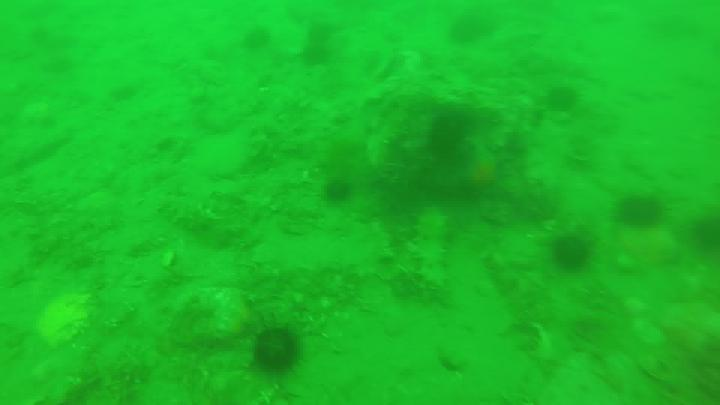echinus: (248, 325, 304, 374), (431, 108, 467, 158), (620, 196, 670, 230), (553, 235, 592, 273), (545, 85, 584, 117), (324, 179, 353, 203), (246, 30, 279, 51), (304, 45, 334, 67)
holothurian: (412, 205, 451, 288)
